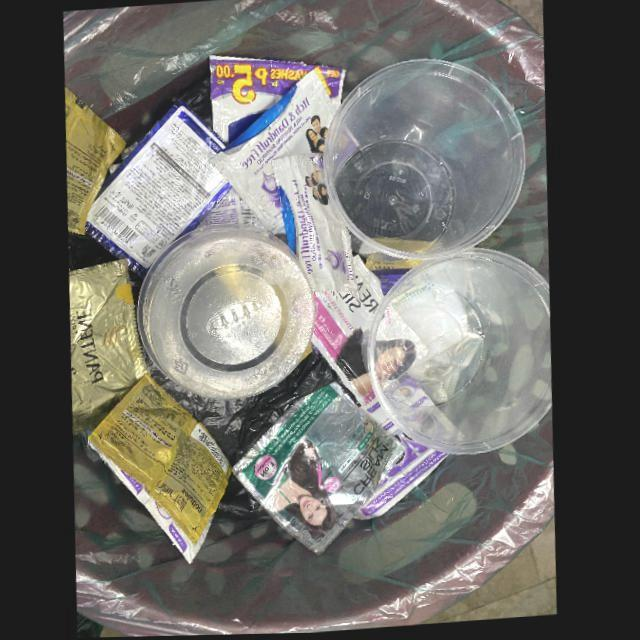plastic_container: (324, 61, 528, 265), (365, 251, 556, 458), (139, 224, 317, 402)
plastic_sachet: (235, 384, 409, 558), (91, 374, 235, 566), (86, 100, 234, 280), (212, 71, 337, 236), (71, 259, 150, 436), (273, 154, 362, 300), (210, 56, 347, 146), (313, 256, 386, 411), (66, 87, 127, 236)
